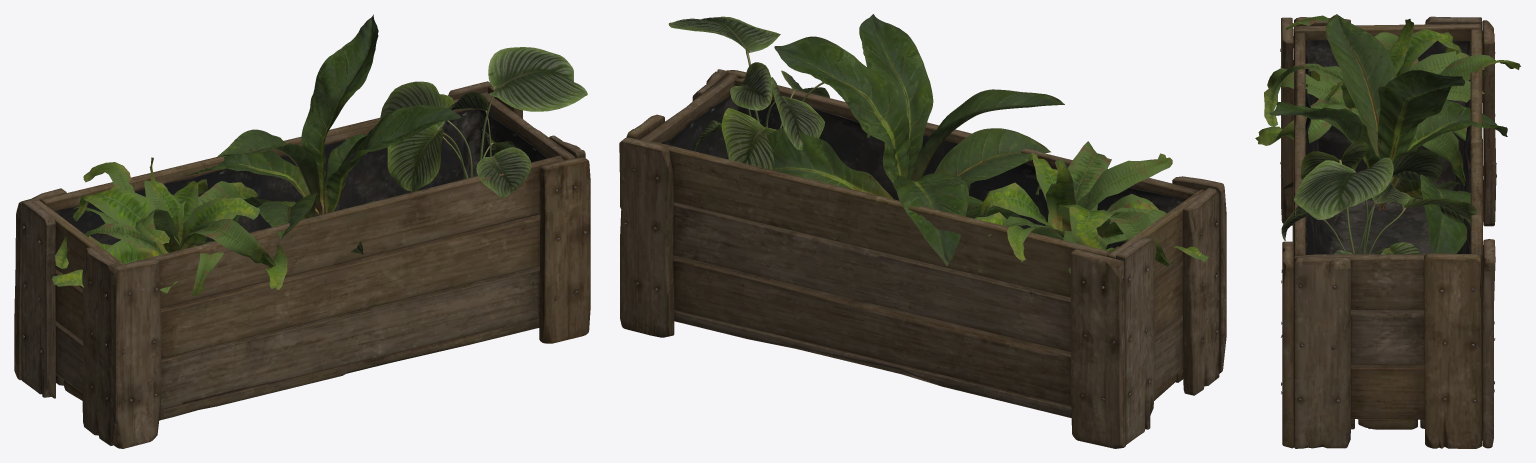
The model's file is planter.glb.
3 views of the same model, side by side, from view 1: azimuth 30°, elevation 25°; view 2: azimuth 150°, elevation 25°; view 3: azimuth 270°, elevation 25° (orthographic). The views are drawn at different scales.
Visible parts, largest first — view 1: planter_box_02, anthurium_botany_01_b, fern_02_c, calathea_orbifolia_01_a; view 2: planter_box_02, anthurium_botany_01_b, fern_02_c, calathea_orbifolia_01_a; view 3: planter_box_02, anthurium_botany_01_b, calathea_orbifolia_01_a, fern_02_c.
Part boxes in pixels (box(x1,y1,x2,y2)): planter_box_02: box(14, 81, 590, 448); anthurium_botany_01_b: box(187, 14, 462, 254); fern_02_c: box(52, 157, 287, 296); calathea_orbifolia_01_a: box(379, 47, 587, 197); planter_box_02: box(619, 69, 1226, 448); anthurium_botany_01_b: box(767, 14, 1064, 265); fern_02_c: box(966, 141, 1208, 274); calathea_orbifolia_01_a: box(668, 16, 869, 169); planter_box_02: box(1280, 16, 1496, 448); anthurium_botany_01_b: box(1269, 14, 1507, 253); calathea_orbifolia_01_a: box(1281, 140, 1476, 254); fern_02_c: box(1255, 15, 1520, 185).
Bounding box in the file's own units: 1.34 × 0.7246 × 0.5739.
4 materials, 4 textured.
